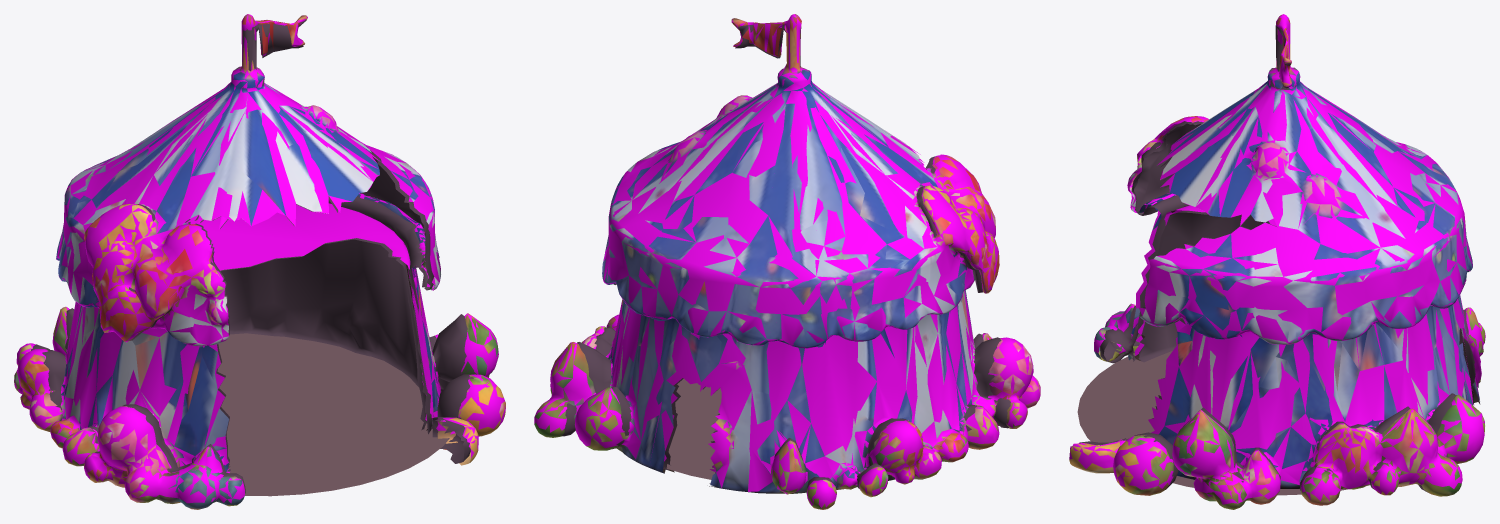
Rendered from CF_Tent.fbx.
The picture shows the model from 3 angles, left to right: view 1: azimuth 30°, elevation 25°; view 2: azimuth 150°, elevation 25°; view 3: azimuth 270°, elevation 25°; orthographic projection.
Visible parts, largest first — view 1: COL_Shell, Shell, Inner, Floor; view 2: COL_Shell, Shell, Inner, Floor; view 3: COL_Shell, Shell, Inner, Floor.
Boxes of the visible parts, x1,y1,x2,y2 form: COL_Shell: (14,14,505,503); Shell: (14,14,505,509); Inner: (31,20,473,493); Floor: (217,333,449,496); COL_Shell: (534,14,1040,507); Shell: (534,14,1040,509); Inner: (561,25,1010,493); Floor: (666,378,721,479); COL_Shell: (1069,14,1485,504); Shell: (1069,15,1484,509); Inner: (1079,25,1475,493); Floor: (1077,351,1369,495).
Size of the model in its own units: 14.01 by 13.18 by 12.4.
